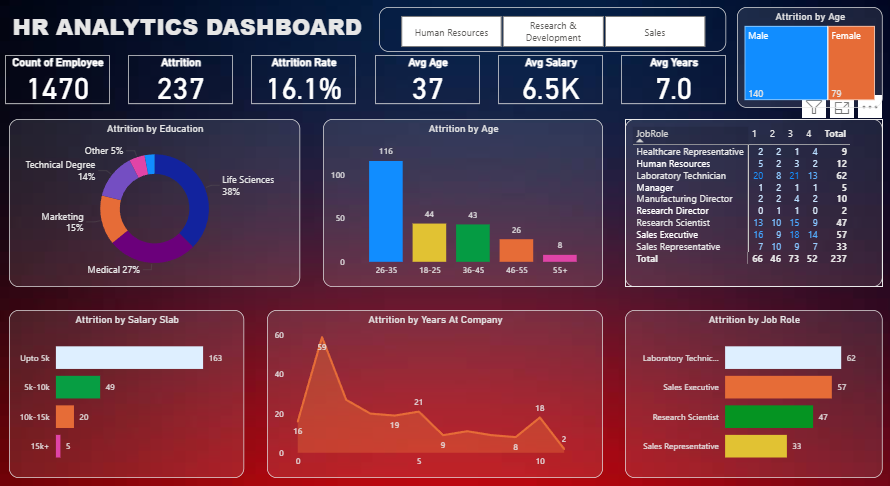

Layout of this report page (visuals, bound fields, positions):
{"tool":"powerbi","page":{"name":"Page 1","canvas":[1280,720],"ordinal":0},"visuals":[{"type":"card","title":"Count of Employee","fields":{"Values":["CountNonNull(HR_Analytics.EmpID)"]},"box":[10,84.5,150,70],"z":0},{"type":"card","title":"Attrition","fields":{"Values":["Sum(HR_Analytics.AttritionCount)"]},"box":[186,84.5,150,70],"z":1000},{"type":"card","title":"Attrition Rate","fields":{"Values":["HR_Analytics.AttritionRate"]},"box":[362,84.5,150,70],"z":2000},{"type":"card","title":"Avg Age","fields":{"Values":["Avg(HR_Analytics.Age)"]},"box":[538,84.5,150,70],"z":3000},{"type":"card","title":"Avg Salary","fields":{"Values":["Avg(HR_Analytics.MonthlyIncome)"]},"box":[714,84.5,150,70],"z":4000},{"type":"card","title":"Avg Years","fields":{"Values":["Avg(HR_Analytics.YearsAtCompany)"]},"box":[890,84.5,150,70],"z":5000},{"type":"donutChart","title":"Attrition by Education","fields":{"Category":["HR_Analytics.EducationField"],"Y":["Sum(HR_Analytics.AttritionCount)"]},"box":[16,176,416,240],"z":6000},{"type":"columnChart","title":"Attrition by Age","fields":{"Category":["HR_Analytics.AgeGroup"],"Y":["Sum(HR_Analytics.AttritionCount)"]},"box":[464,176,400,240],"z":7000},{"type":"pivotTable","title":"Job Satisfaction","fields":{"Rows":["HR_Analytics.JobRole"],"Columns":["HR_Analytics.JobSatisfaction"],"Values":["Sum(HR_Analytics.AttritionCount)"]},"box":[896,176,368,240],"z":8000},{"type":"barChart","title":"Attrition by Salary Slab","fields":{"Category":["HR_Analytics.SalarySlab"],"Y":["Sum(HR_Analytics.AttritionCount)"]},"box":[16,448,336,240],"z":9000},{"type":"barChart","title":"Attrition by Job Role","fields":{"Category":["HR_Analytics.JobRole"],"Y":["Sum(HR_Analytics.AttritionCount)"]},"box":[896,448,368,240],"z":10000},{"type":"areaChart","title":"Attrition by Years At Company","fields":{"Category":["HR_Analytics.YearsAtCompany"],"Y":["Sum(HR_Analytics.AttritionCount)"]},"box":[384,448,480,240],"z":11000},{"type":"treemap","title":"Attrition by Age","fields":{"Group":["HR_Analytics.Gender"],"Values":["Sum(HR_Analytics.AttritionCount)"]},"box":[1056,16,208,144],"z":12000},{"type":"slicer","fields":{"Values":["HR_Analytics.Department"]},"box":[544,16,496,64],"z":13000},{"type":"textbox","box":[16,16,544,64],"z":14000}]}

Visuals, with their boxes in screenshot pixels (x1, y1, x2, y2):
"Count of Employee" card: (12, 56, 115, 104)
"Attrition" card: (133, 56, 237, 104)
"Attrition Rate" card: (255, 56, 359, 104)
"Avg Age" card: (376, 56, 480, 104)
"Avg Salary" card: (498, 56, 602, 104)
"Avg Years" card: (620, 56, 723, 104)
"Attrition by Education" donutChart: (16, 119, 303, 285)
"Attrition by Age" columnChart: (325, 119, 602, 285)
"Job Satisfaction" pivotTable: (624, 119, 878, 285)
"Attrition by Salary Slab" barChart: (16, 307, 248, 473)
"Attrition by Job Role" barChart: (624, 307, 878, 473)
"Attrition by Years At Company" areaChart: (270, 307, 602, 473)
"Attrition by Age" treemap: (735, 9, 878, 108)
slicer - HR_Analytics.Department: (381, 9, 723, 53)
textbox: (16, 9, 392, 53)
